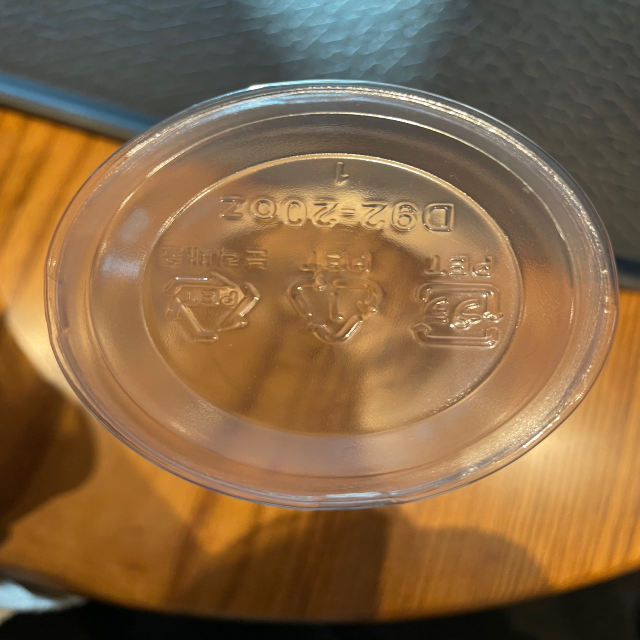pet: (156, 228, 268, 350), (285, 243, 386, 351), (406, 250, 509, 354)
